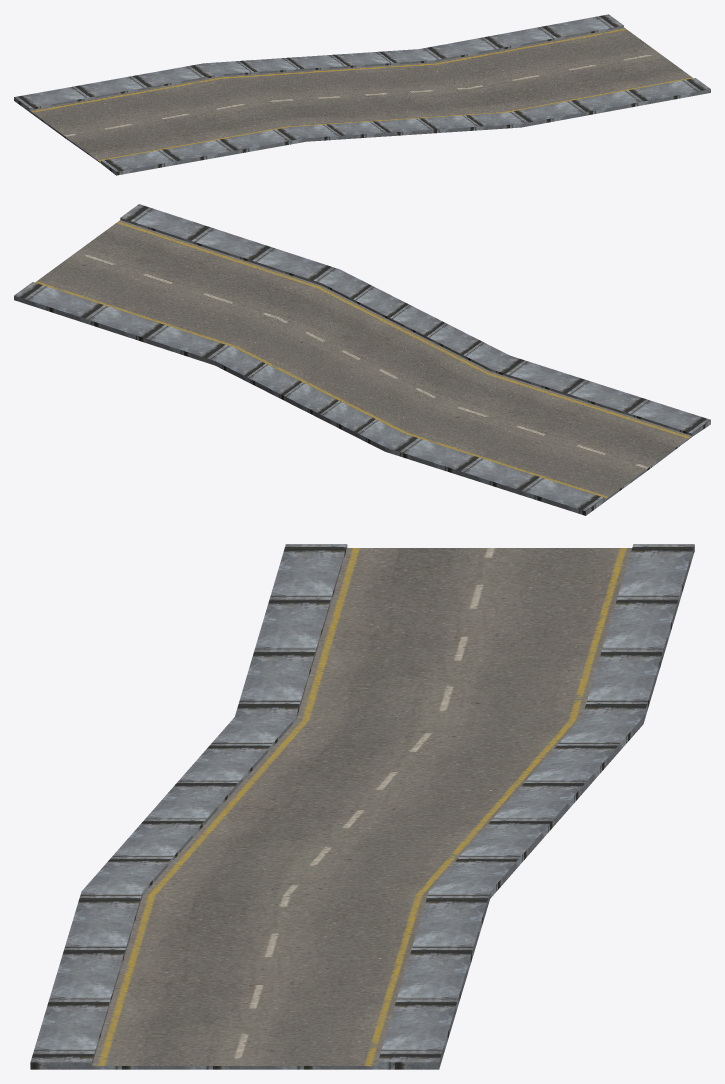
Rendered from Urban_Road1Sheer_Model.fbx.
3 views of the same model, one above another, from view 1: azimuth 30°, elevation 25°; view 2: azimuth 150°, elevation 25°; view 3: azimuth 270°, elevation 25° (orthographic). The views are drawn at different scales.
Visible parts, largest first — view 1: Urban_Road1Sheer_Mesh; view 2: Urban_Road1Sheer_Mesh; view 3: Urban_Road1Sheer_Mesh.
Part boxes in pixels (x1,y1,x2,y2): Urban_Road1Sheer_Mesh: (14, 14, 710, 175); Urban_Road1Sheer_Mesh: (14, 204, 710, 515); Urban_Road1Sheer_Mesh: (30, 544, 694, 1069).
Bounding box in the file's own units: 48 × 0.4 × 26.
